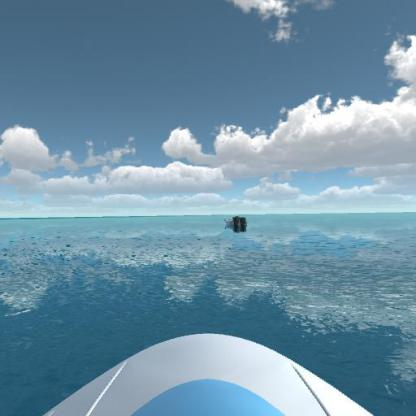usv1: (223, 211, 249, 234)
